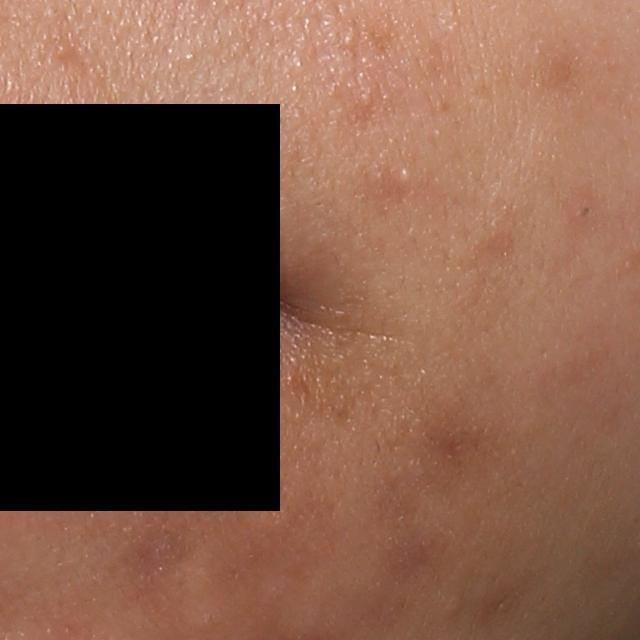comedo: (570, 202, 592, 223)
